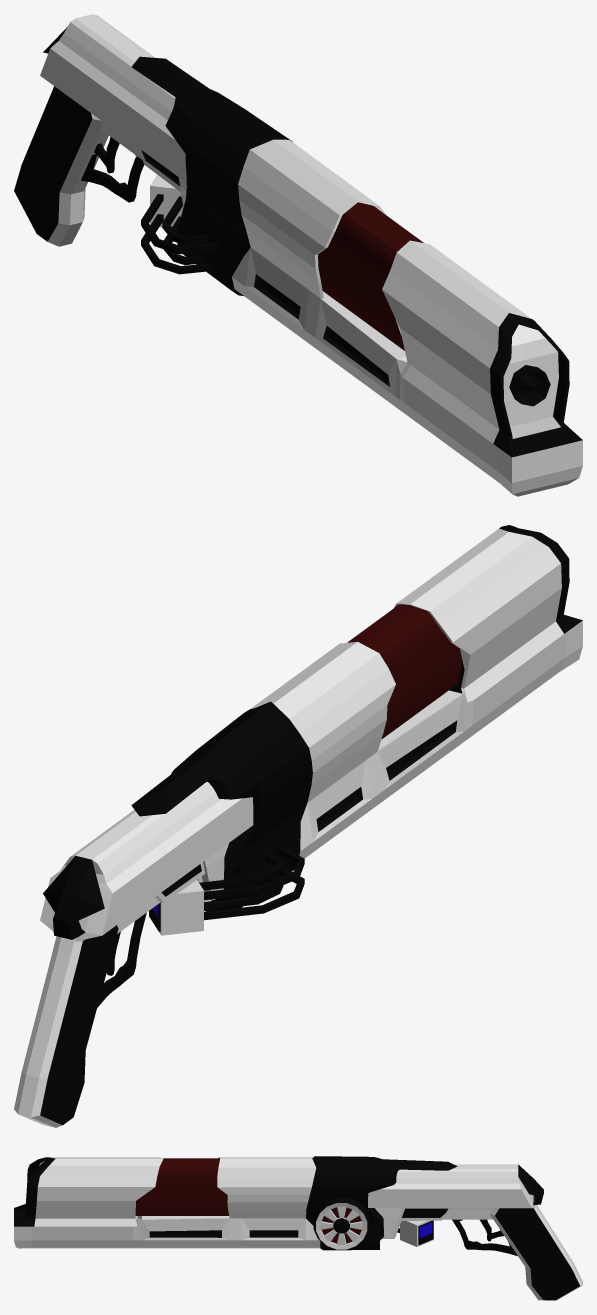
File: Lasergun.fbx
The picture shows the model from 3 angles, top to bottom: view 1: azimuth 30°, elevation 25°; view 2: azimuth 150°, elevation 25°; view 3: azimuth 270°, elevation 25°; orthographic projection. The views are drawn at different scales.
Visible parts, largest first — view 1: Lasergun; view 2: Lasergun; view 3: Lasergun.
Part boxes in pixels (left/top/right/bottom): Lasergun: left=14, top=14, right=582, bottom=496; Lasergun: left=14, top=525, right=582, bottom=1127; Lasergun: left=14, top=1156, right=582, bottom=1300.
Bounding box in the file's own units: 0.1801 × 1.33 × 0.368.
